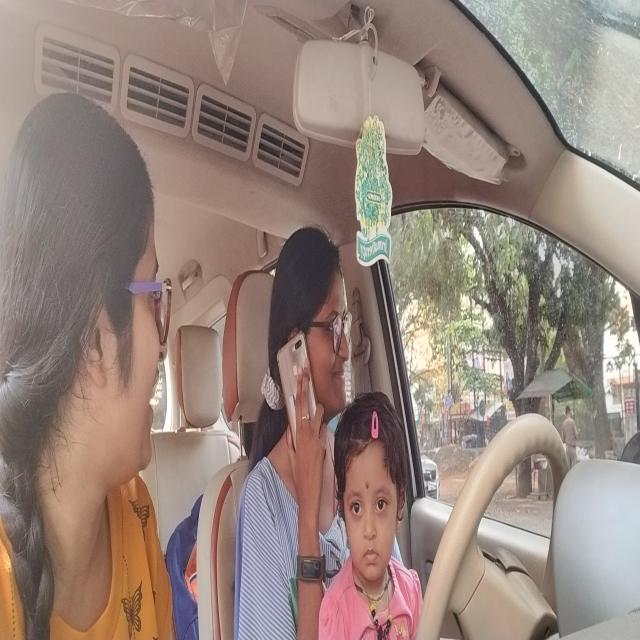child: (340, 418, 403, 581)
mobile: (275, 339, 316, 426)
person: (56, 84, 165, 485), (275, 231, 351, 417)
